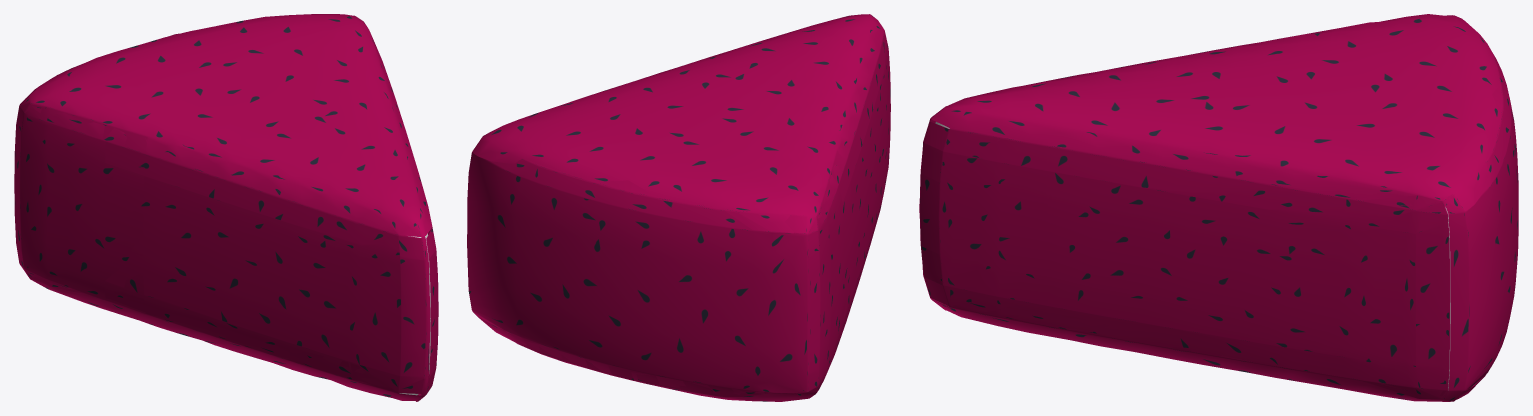
The model's file is 火龍果.glb.
3 views of the same model, side by side, from view 1: azimuth 30°, elevation 25°; view 2: azimuth 150°, elevation 25°; view 3: azimuth 270°, elevation 25° (orthographic). The views are drawn at different scales.
Visible parts, largest first — view 1: 火龍果.001, 火龍果, 火龍果.003, 火龍果.002; view 2: 火龍果.004, 火龍果, 火龍果.001, 火龍果.003; view 3: 火龍果.002, 火龍果, 火龍果.004, 火龍果.003.
Part boxes in pixels (left/top/right/bottom): 火龍果.001: left=14, top=102, right=430, bottom=401; 火龍果: left=20, top=14, right=432, bottom=236; 火龍果.003: left=20, top=264, right=431, bottom=400; 火龍果.002: left=369, top=31, right=438, bottom=393; 火龍果.004: left=467, top=136, right=808, bottom=397; 火龍果: left=472, top=14, right=884, bottom=233; 火龍果.001: left=807, top=14, right=890, bottom=392; 火龍果.003: left=472, top=193, right=883, bottom=401; 火龍果.002: left=919, top=121, right=1449, bottom=399; 火龍果: left=931, top=14, right=1503, bottom=211; 火龍果.004: left=1443, top=15, right=1518, bottom=401; 火龍果.003: left=930, top=297, right=1493, bottom=401.
Bounding box in the file's own units: 0.7092 × 0.4202 × 0.9366.
2 materials, 1 textured.
